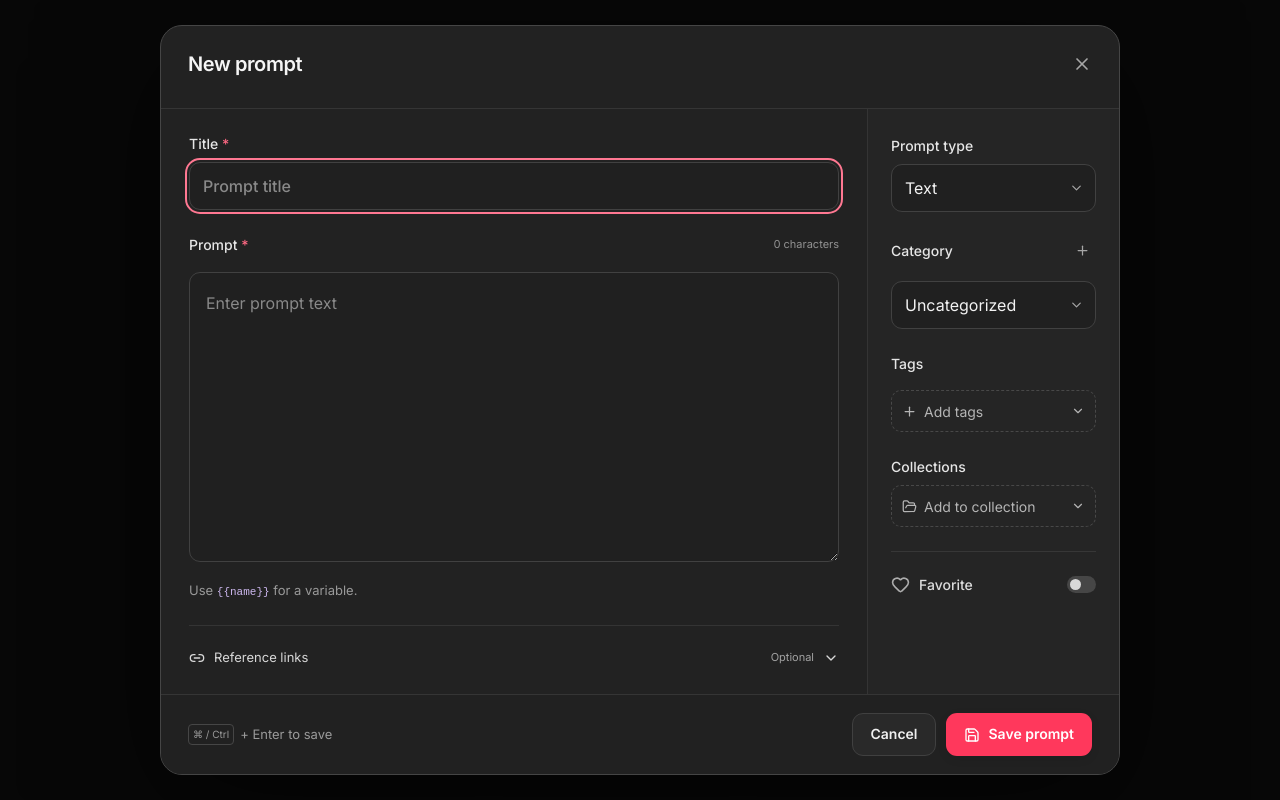
Test: prompt editor data safety › validates required fields before persisting
This screenshot has width=1280, height=800.
Click the button "Save prompt". click: (1019, 734)
box: x1=946 y1=713 x2=1092 y2=756
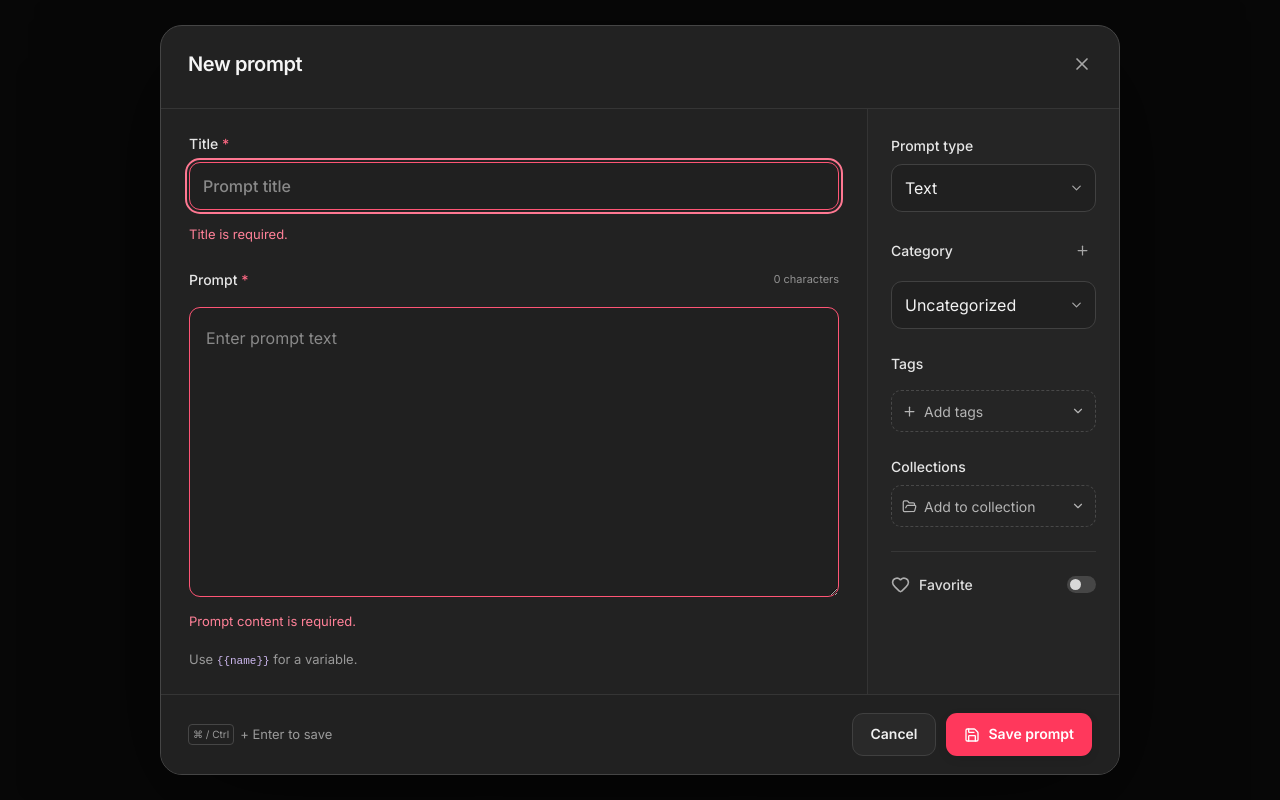
Expected: the text "Title is required." is shown, x1=189 y1=226 x2=288 y2=242
Expected: the text "Prompt content is required." is shown, x1=189 y1=612 x2=356 y2=628
